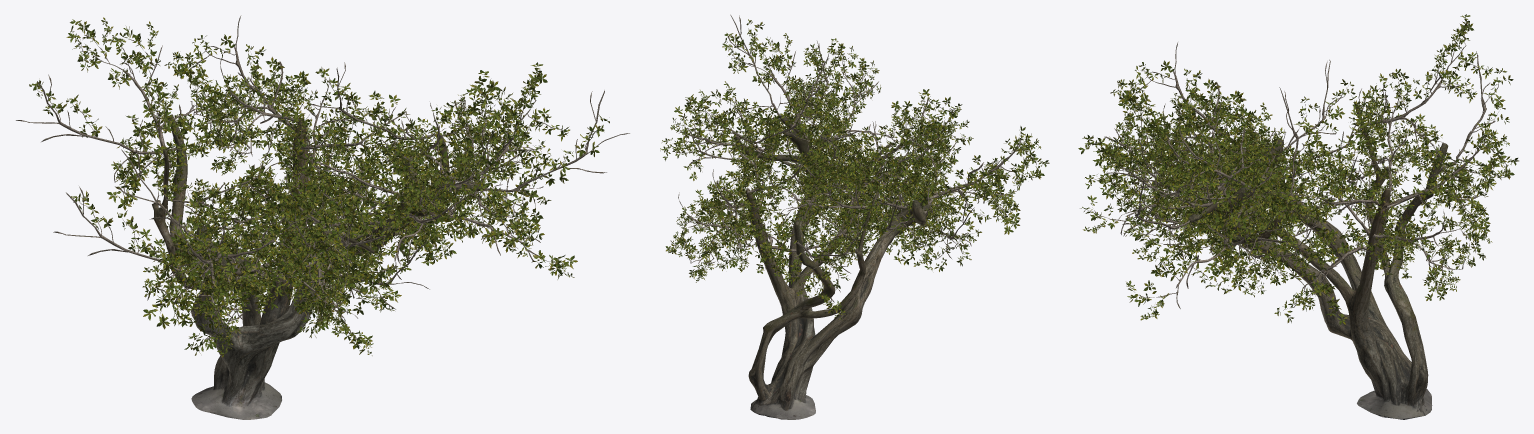
Rendered from island-tree-02.glb.
3 renders of one model, left to right at view 1: azimuth 30°, elevation 25°; view 2: azimuth 150°, elevation 25°; view 3: azimuth 270°, elevation 25°, orthographic. The views are drawn at different scales.
Visible parts, largest first — view 1: island_tree_02_LOD0; view 2: island_tree_02_LOD0; view 3: island_tree_02_LOD0.
Boxes of the visible parts, bbox=[...] form: island_tree_02_LOD0: bbox=[16, 15, 629, 419]; island_tree_02_LOD0: bbox=[660, 14, 1049, 419]; island_tree_02_LOD0: bbox=[1078, 14, 1518, 419].
Bounding box in the file's own units: 4.21 × 3.41 × 4.07.
3 materials, 3 textured.
